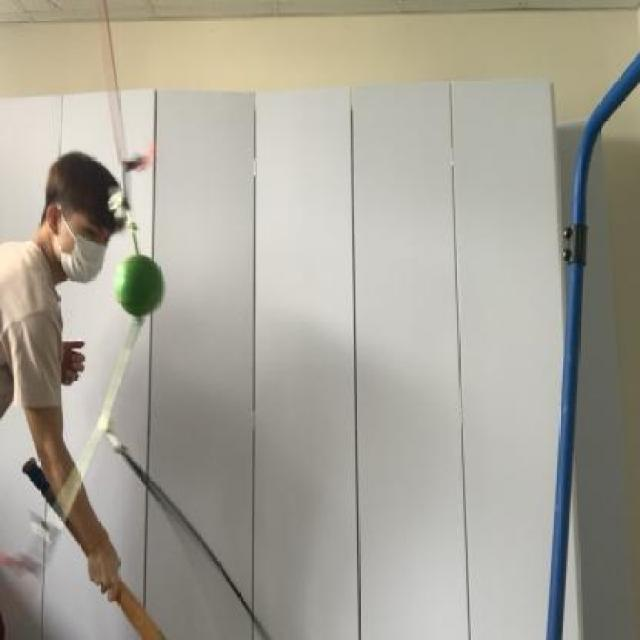baseball: (106, 246, 172, 326)
